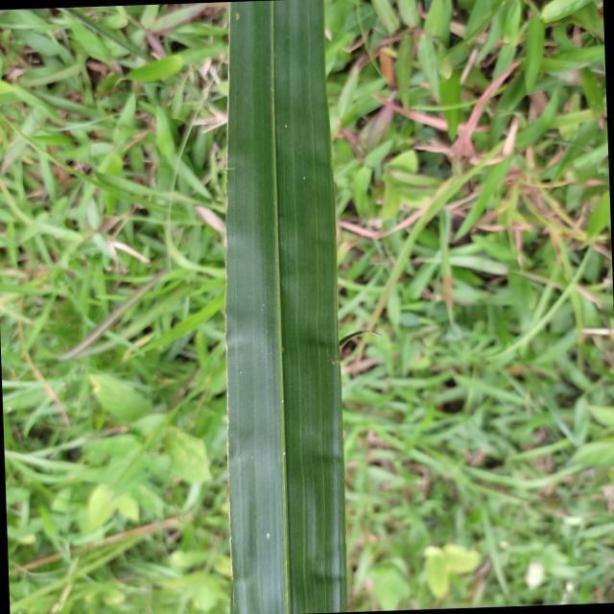Boron: (228, 0, 348, 614)
